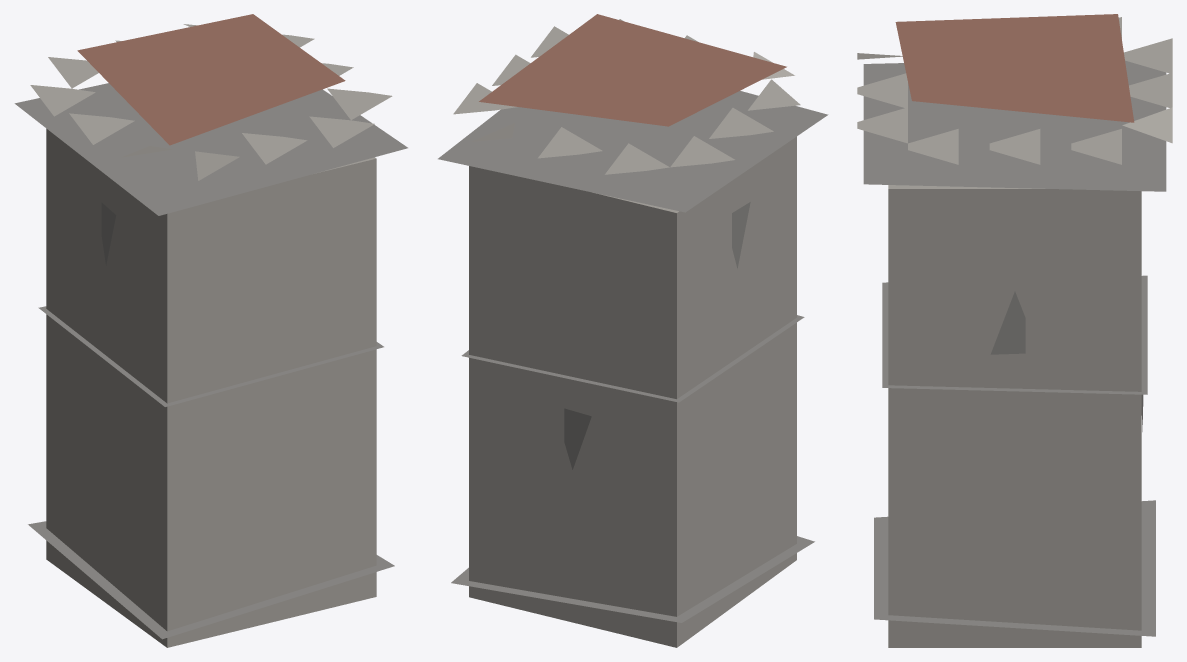
File: tower_square_lod.glb
The picture shows the model from 3 angles, left to right: view 1: azimuth 30°, elevation 25°; view 2: azimuth 150°, elevation 25°; view 3: azimuth 270°, elevation 25°; orthographic projection. The views are drawn at different scales.
Visible parts, largest first — view 1: tower_square_lod; view 2: tower_square_lod; view 3: tower_square_lod.
Boxes of the visible parts, x1=… form: tower_square_lod: x1=14, y1=14, x2=407, y2=647; tower_square_lod: x1=438, y1=14, x2=828, y2=647; tower_square_lod: x1=857, y1=14, x2=1172, y2=647.
Bounding box in the file's own units: 3.86 × 7.25 × 3.86.
